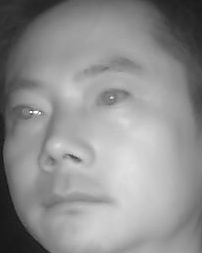eye: (93, 86, 131, 111), (10, 102, 47, 125)
mouth: (36, 180, 114, 220)
